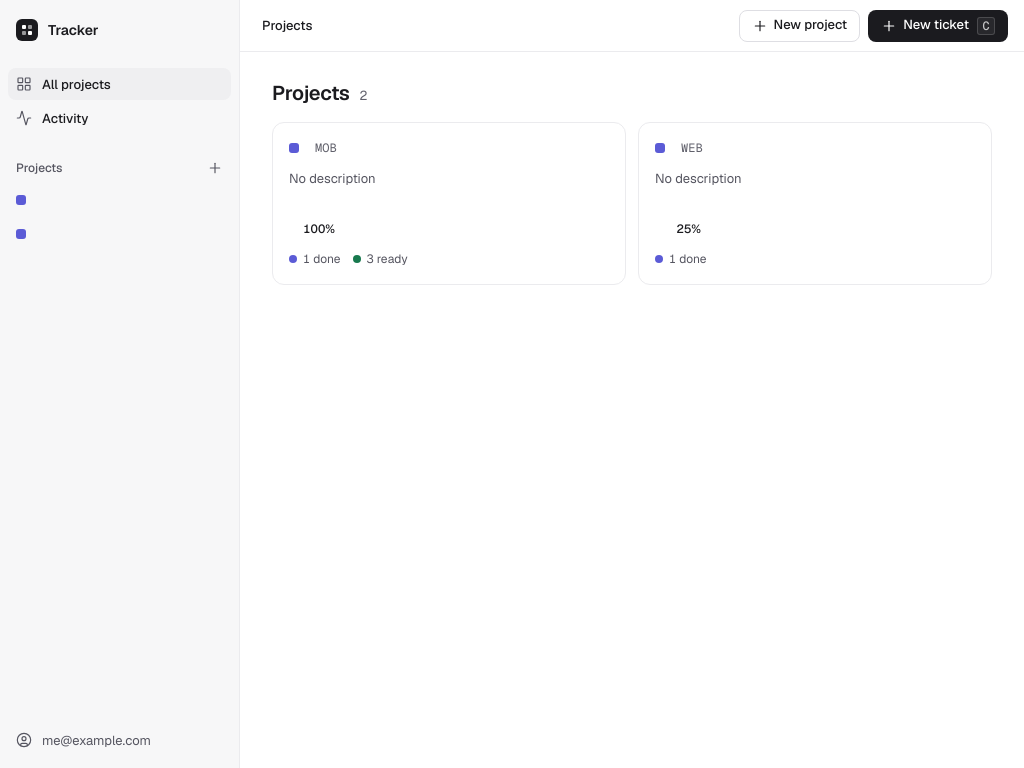
Test case: sign in › signs out from the sidebar on desktop, back to the sign-in screen
The width and height of the screenshot is (1024, 768).
Check: the element "projects" is shown, box [0,0,240,767]
Click the button with aria-label "Account" at (120, 740), box [8,724,231,756]
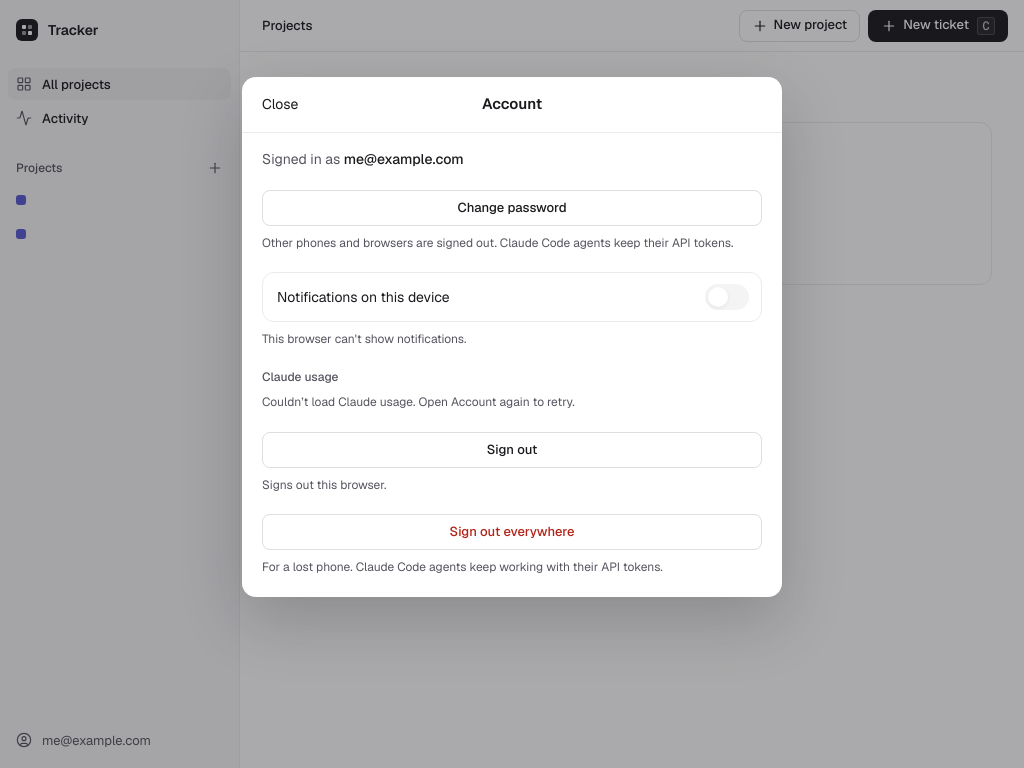
Check: the dialog "Account" shows "Signed in as me@example.com", box [242,77,782,597]
Click the button "Sign out" at (512, 450), box [262,432,762,468]
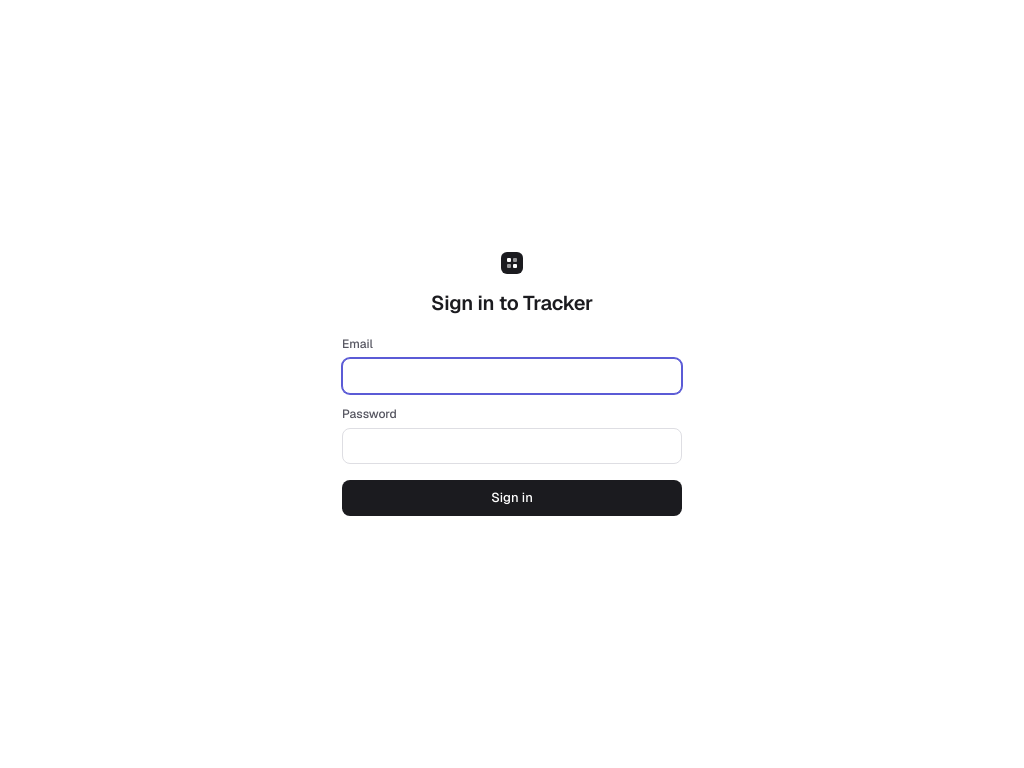
Check: the heading "Sign in to Tracker" is shown, box [431,290,593,316]
Check: the text "Account" is gone
